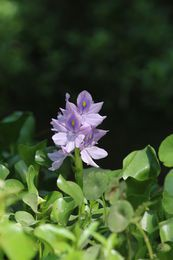water_hyacinth: (2, 88, 172, 258)
